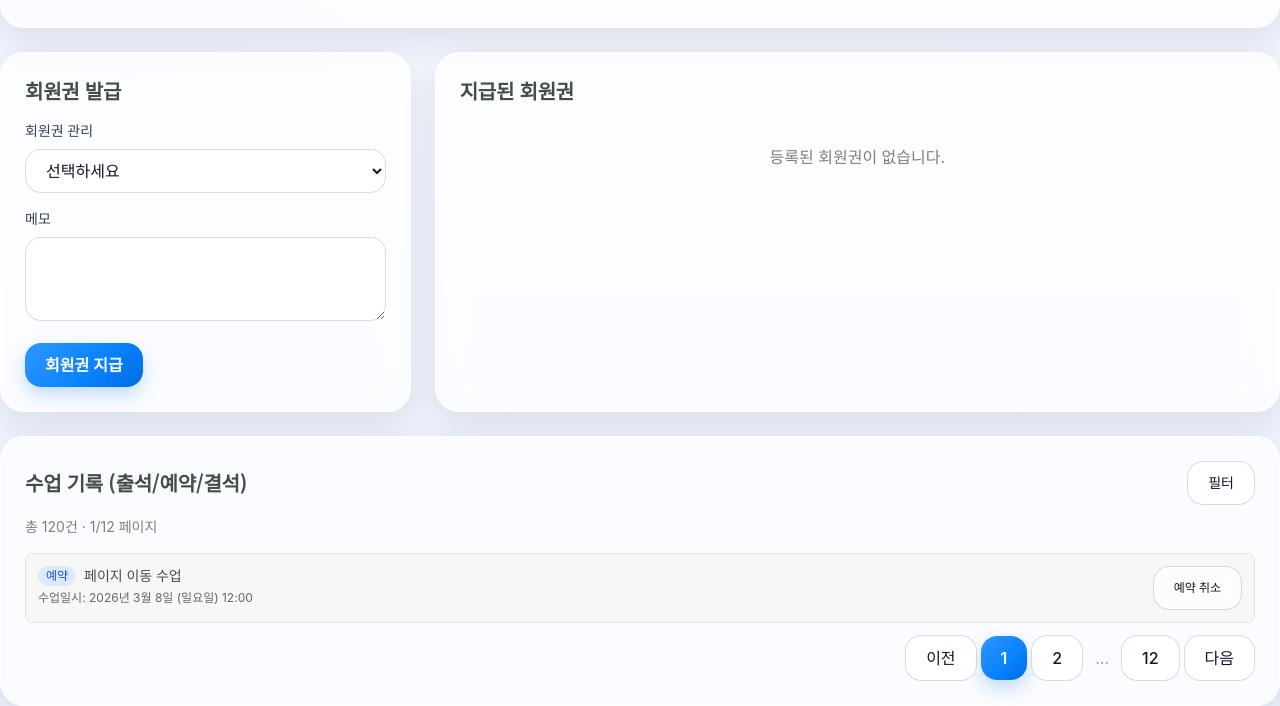
Test: CustomerDetail page › changes activity page by clicking page number and next button
(page scrolled)
Click the button "2".
click(1057, 658)  # box x1=1031 y1=635 x2=1083 y2=681
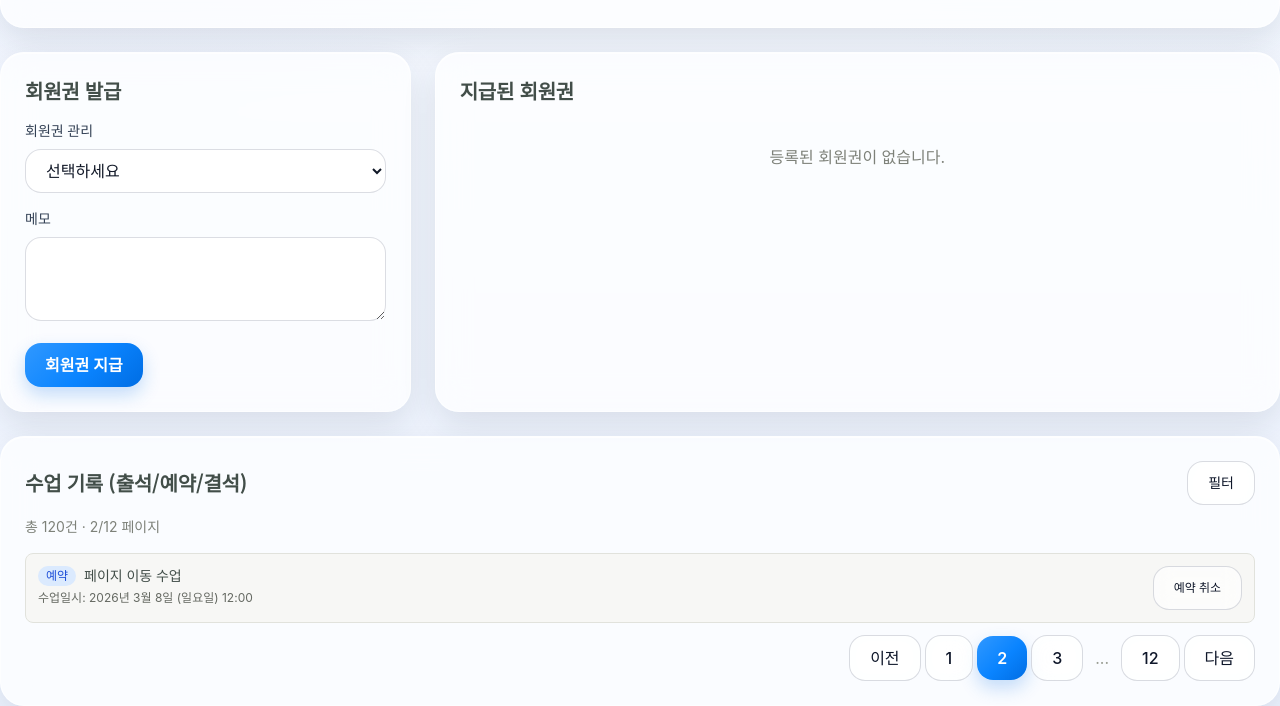
Expected: the text "총 120건 · 2/12 페이지" is shown, x1=25 y1=518 x2=160 y2=535
Click the button "다음".
click(1219, 658)  # box x1=1184 y1=635 x2=1255 y2=681
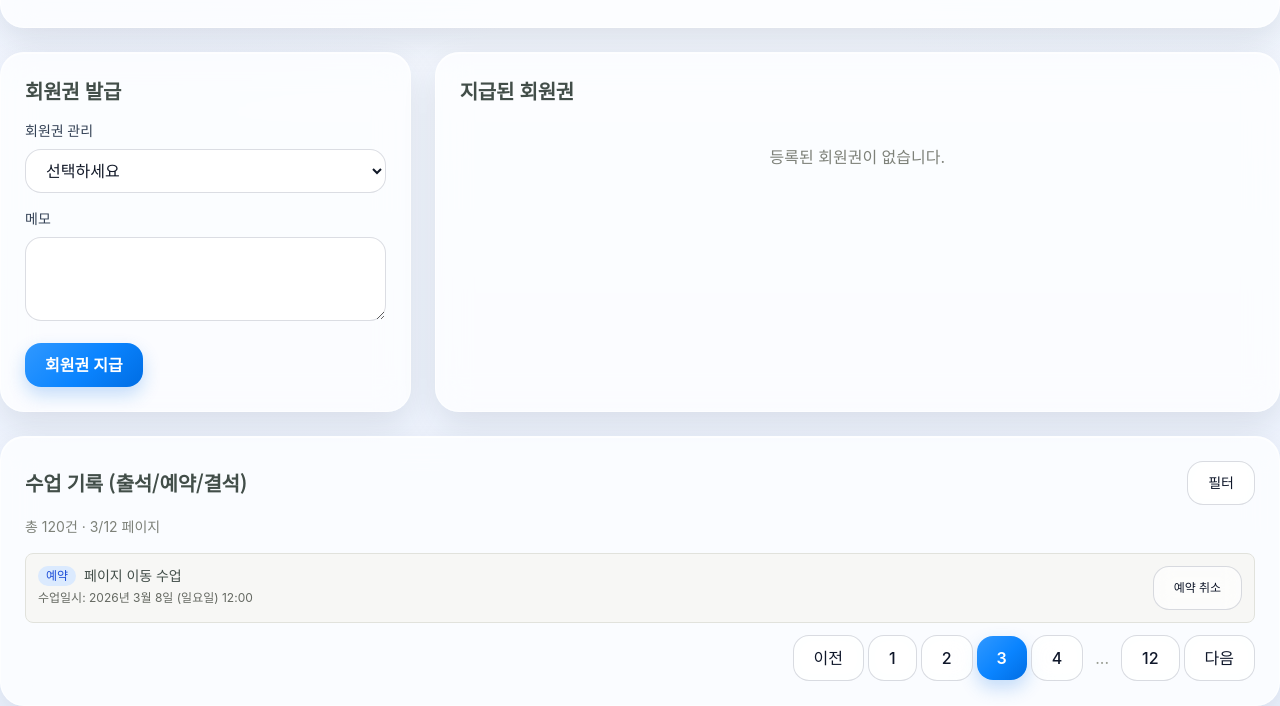
Expected: the text "총 120건 · 3/12 페이지" is shown, x1=25 y1=518 x2=160 y2=535
